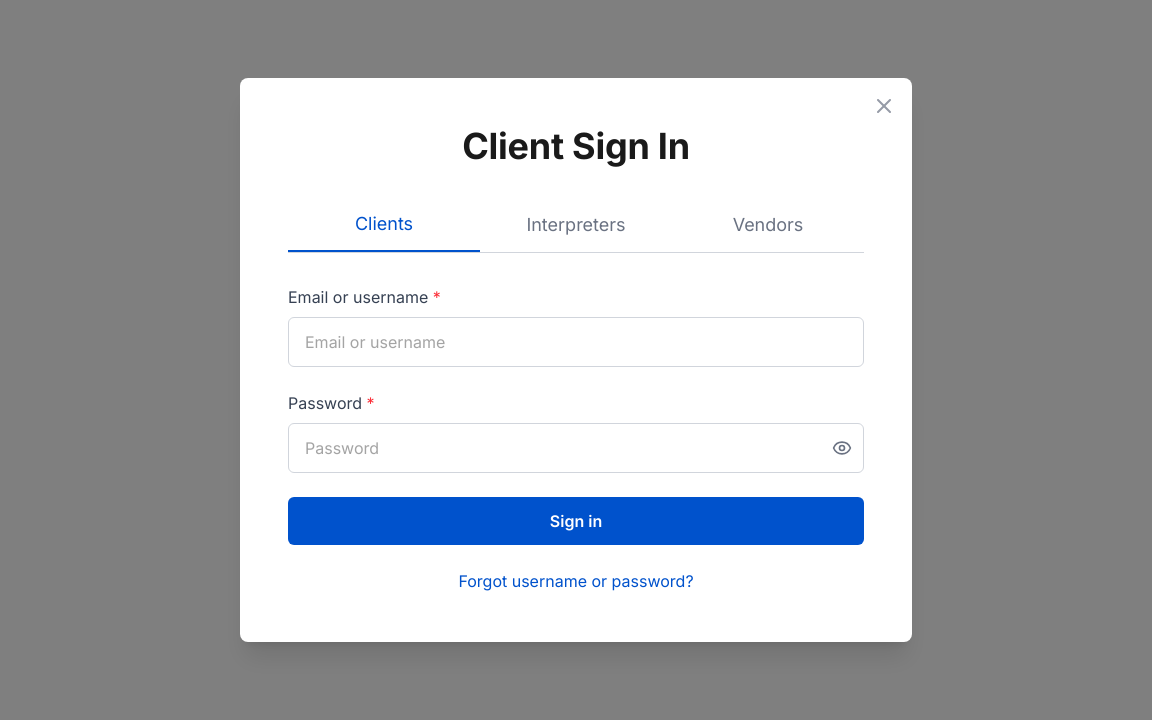
SignInModal › should show validation errors for empty fields
The width and height of the screenshot is (1152, 720).
Click the button "Sign in" at (576, 521), box top-left (288, 497), bottom-right (864, 545)
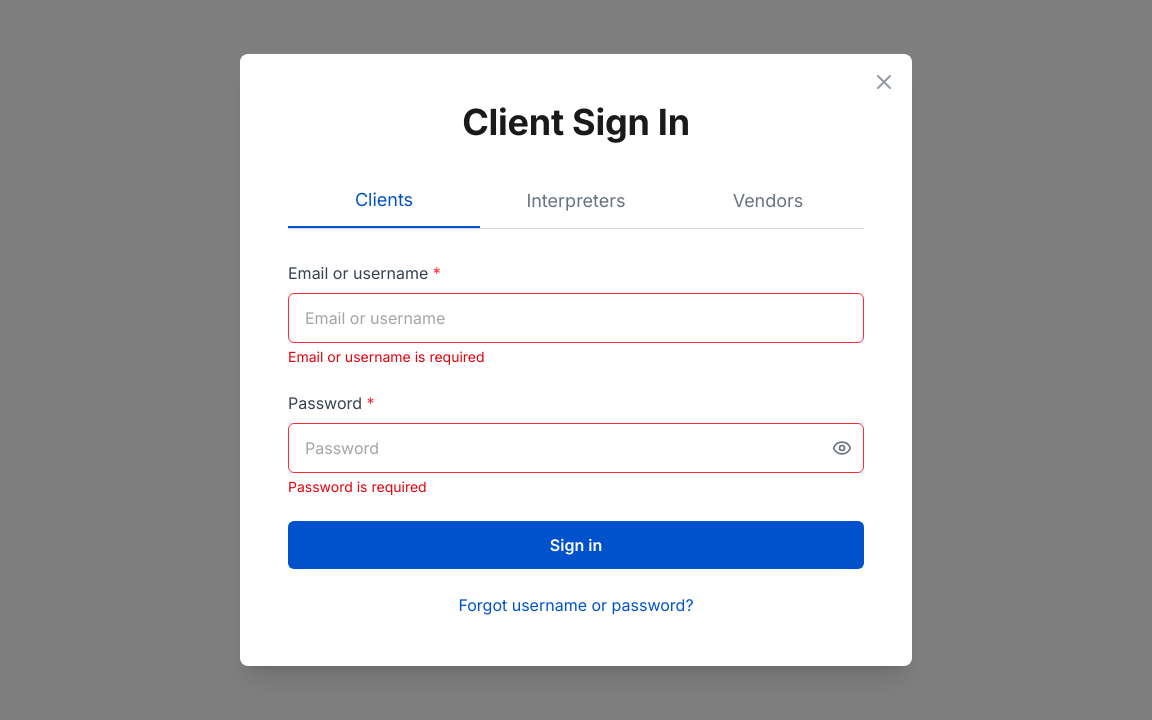
Expected: the text "Email or username is required" is shown, top-left (288, 348), bottom-right (485, 365)
Expected: the text "Password is required" is shown, top-left (288, 478), bottom-right (427, 495)
